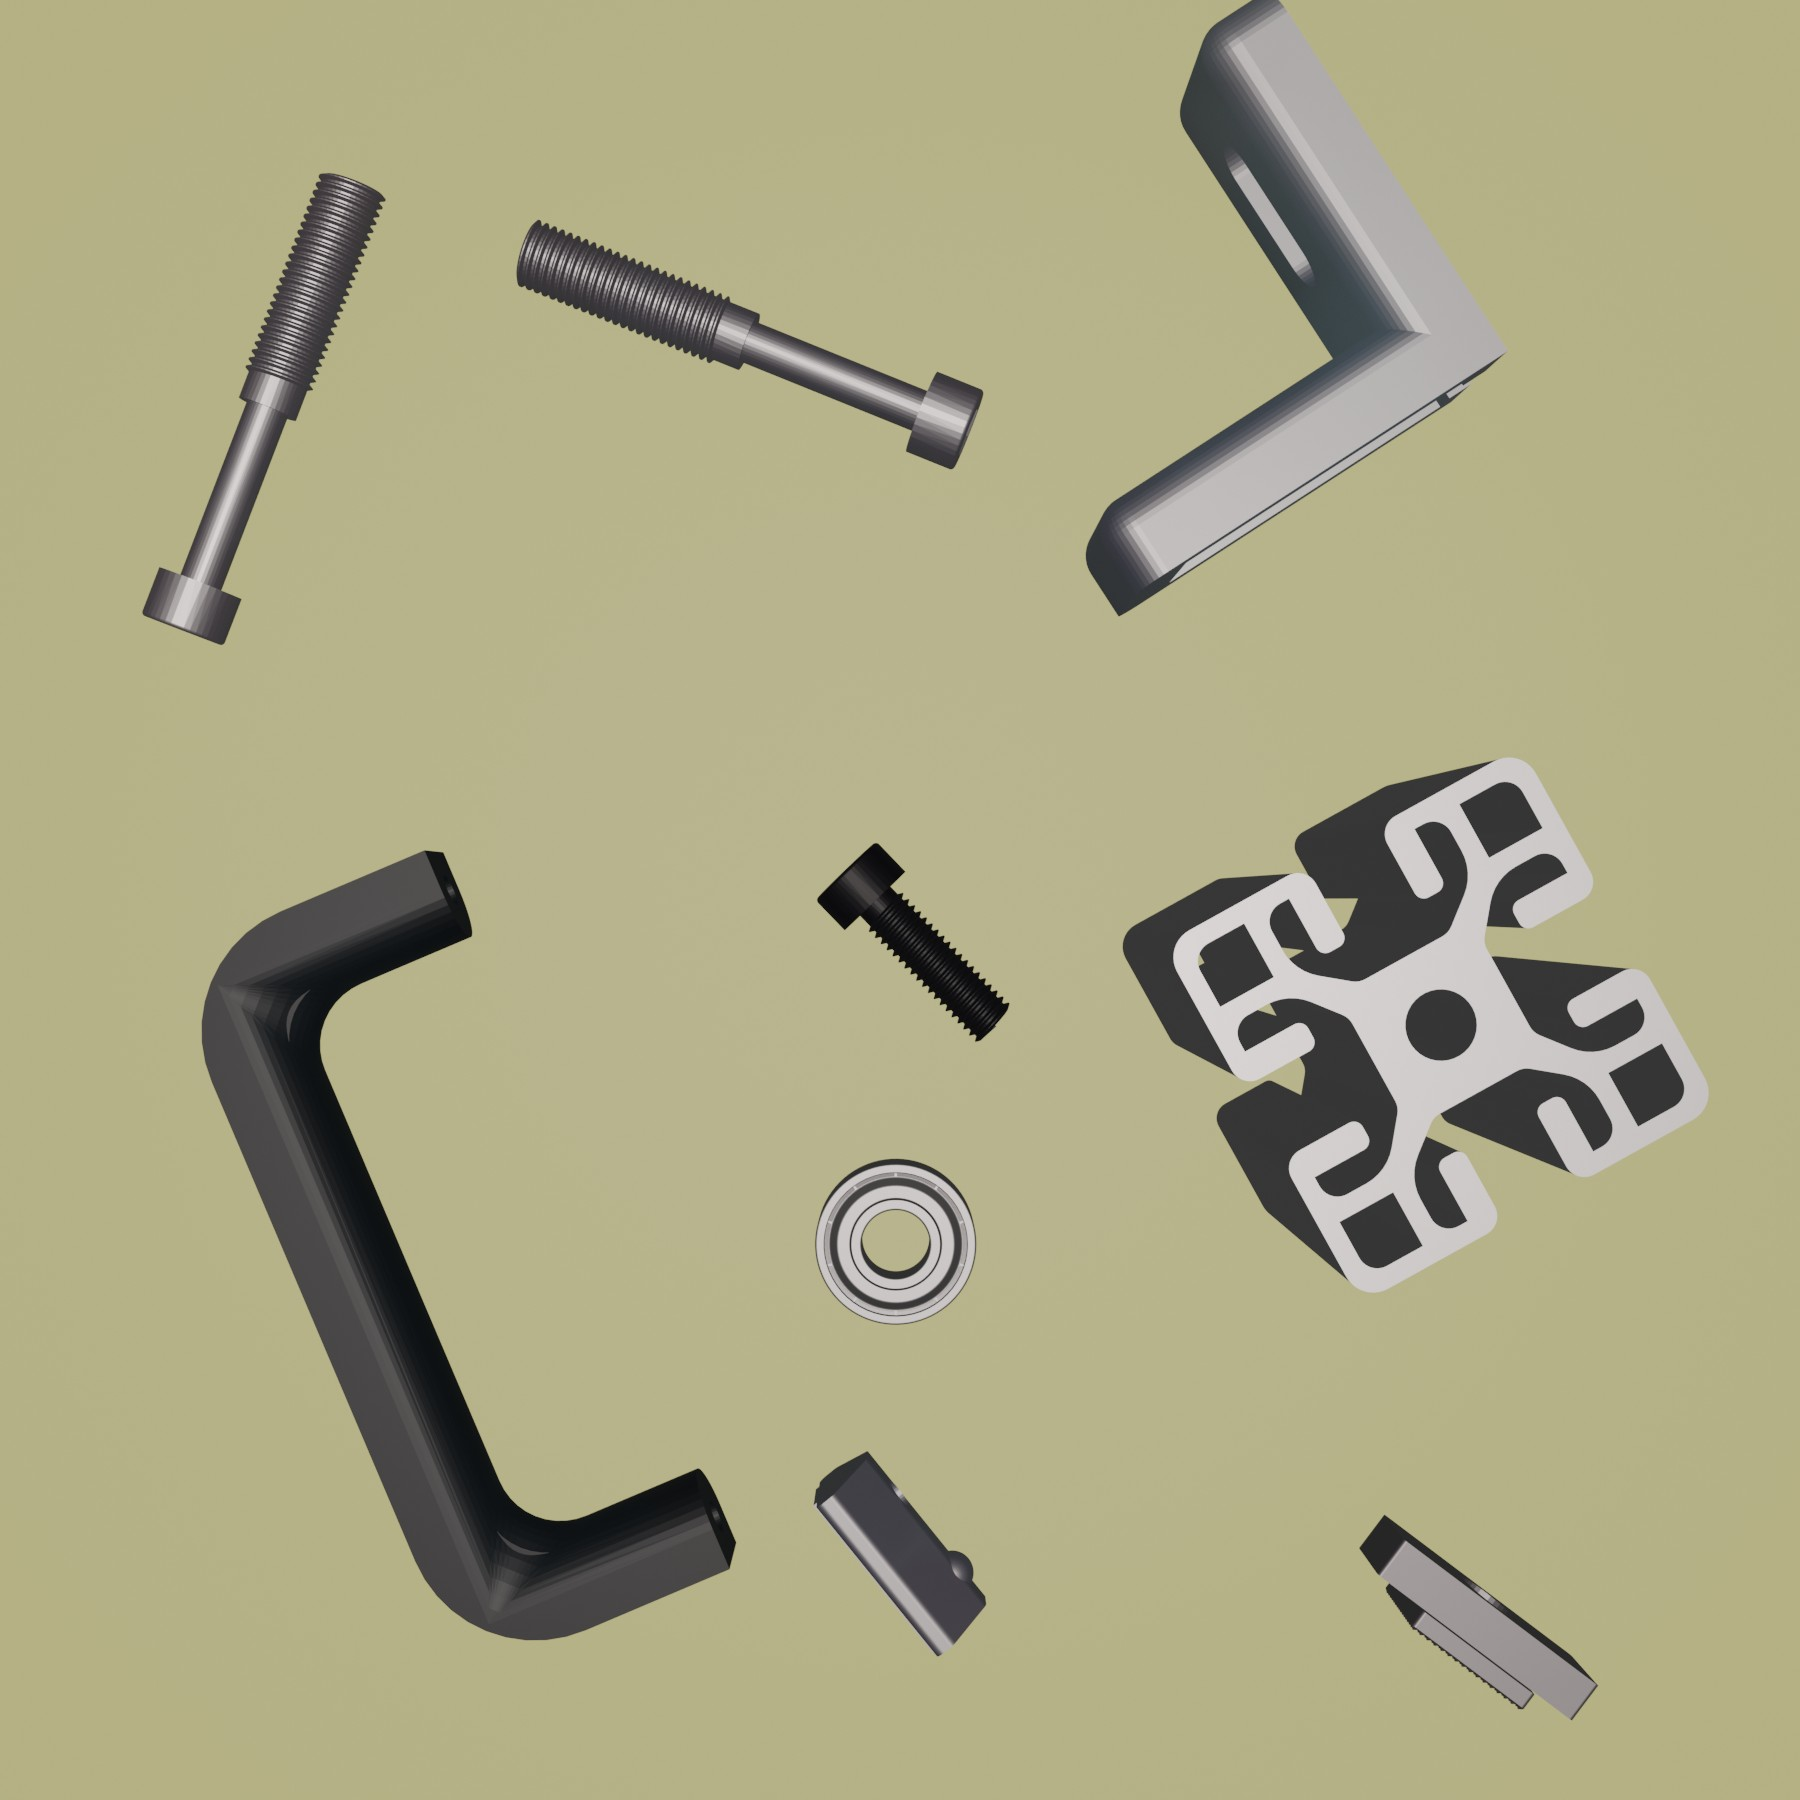Aluminium Extension: (1123, 753, 1713, 1296)
Ball Bearing: (813, 1155, 979, 1329)
Multiwinkel: (1081, 2, 1508, 620)
Pull Handle: (199, 847, 735, 1642)
Shoulder Socket Head Cap Screw: (511, 219, 986, 471), (138, 170, 387, 649)
Socket Head Cap Screw: (816, 842, 1012, 1043)
T Nut Square: (1353, 1512, 1601, 1727)
T Spring Nut: (813, 1451, 989, 1662)
